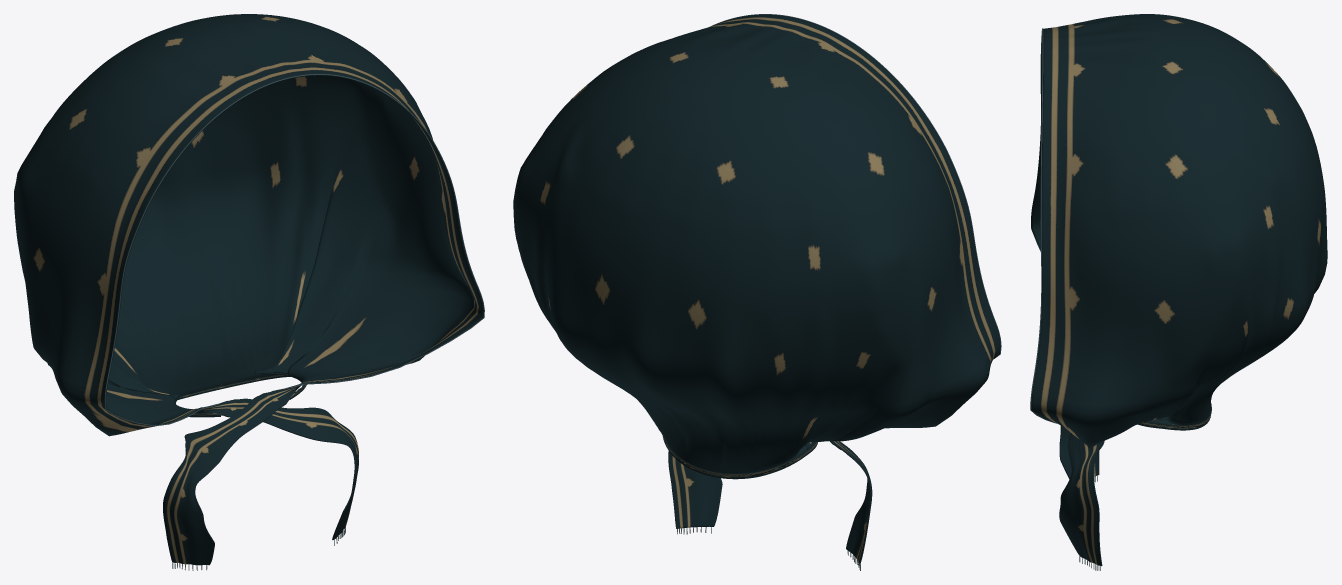
Rendered from Feminine-twin-braids-strappy-pashmina249-headgear.glb.
3 renders of one model, left to right at view 1: azimuth 30°, elevation 25°; view 2: azimuth 150°, elevation 25°; view 3: azimuth 270°, elevation 25°, orthographic. The views are drawn at different scales.
Visible parts, largest first — view 1: 226 headgear / Headwear / continuous woven pashmina239, 226 headgear / Headwear / face edge239; view 2: 226 headgear / Headwear / continuous woven pashmina239, 226 headgear / Headwear / face edge239; view 3: 226 headgear / Headwear / continuous woven pashmina239, 226 headgear / Headwear / face edge239.
Part boxes in pixels (box(x1,y1,x2,y2)): 226 headgear / Headwear / continuous woven pashmina239: box(14, 14, 483, 565); 226 headgear / Headwear / face edge239: box(104, 74, 484, 426); 226 headgear / Headwear / continuous woven pashmina239: box(513, 14, 1000, 564); 226 headgear / Headwear / face edge239: box(709, 14, 1001, 359); 226 headgear / Headwear / continuous woven pashmina239: box(1031, 14, 1327, 566); 226 headgear / Headwear / face edge239: box(1030, 28, 1056, 423).
Size of the model in its own units: 1.15 by 1.36 by 0.7436.
Materials: 3 (1 with a texture image).
